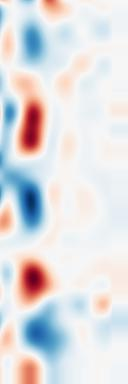filament: (11, 250, 60, 314), (12, 93, 53, 165)
